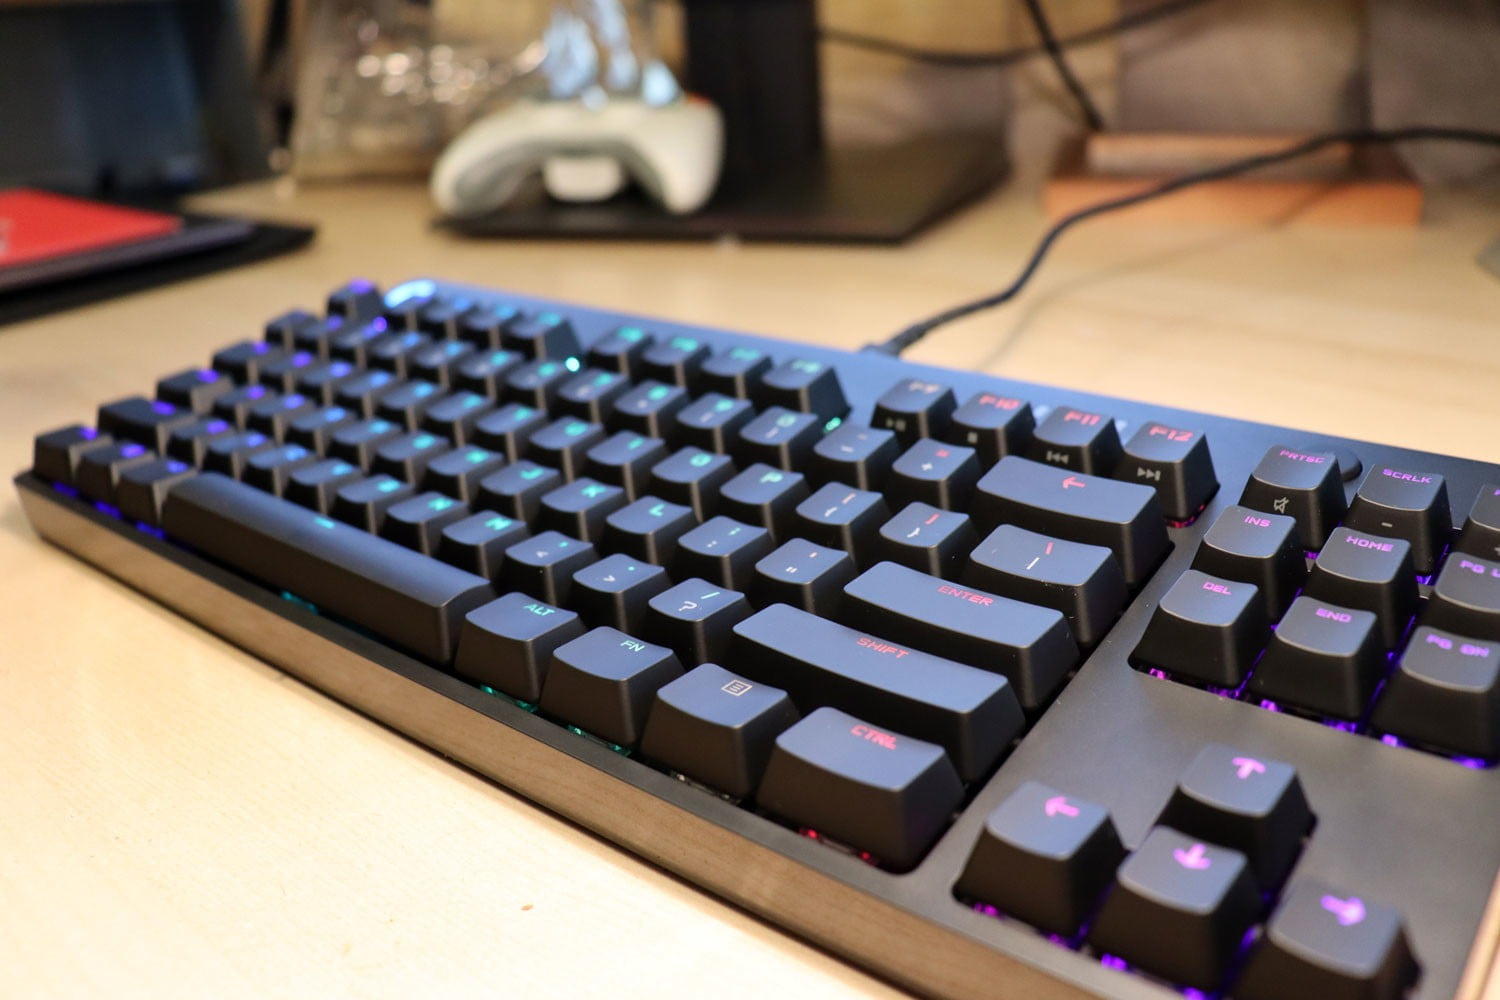keyboard: (0, 212, 1500, 1000)
